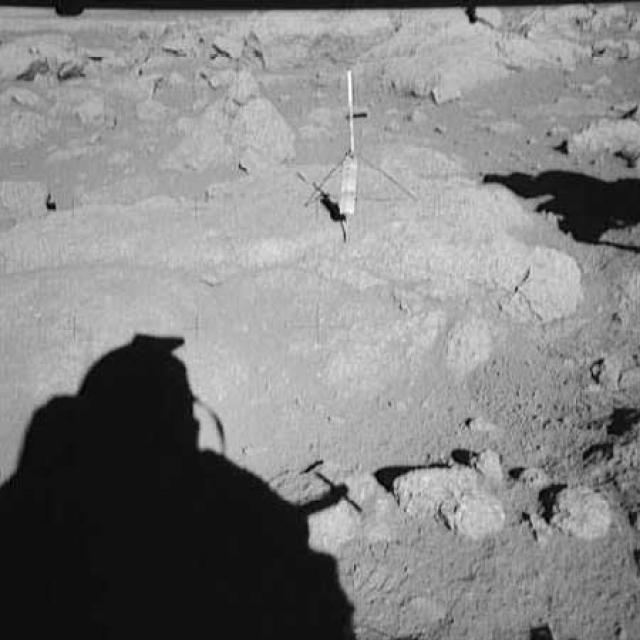artifact: (305, 61, 419, 238)
rock: (168, 72, 288, 173), (382, 450, 514, 536), (559, 110, 639, 174), (544, 478, 616, 543), (1, 170, 53, 220)
